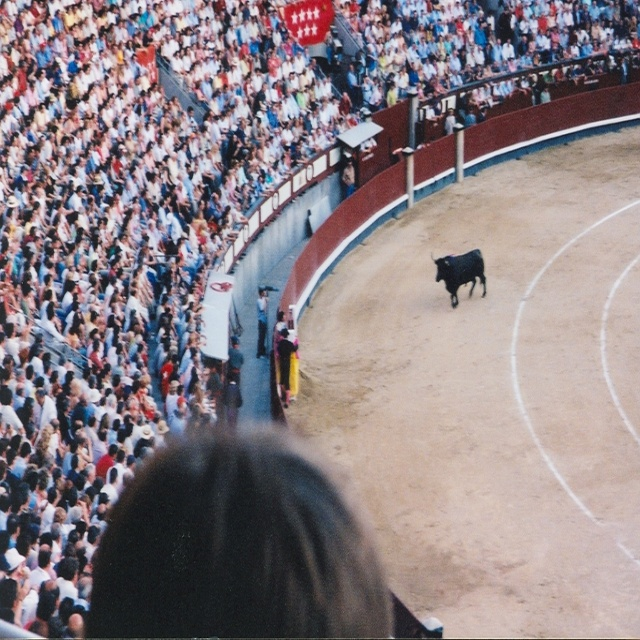Bull: (429, 250, 488, 308)
